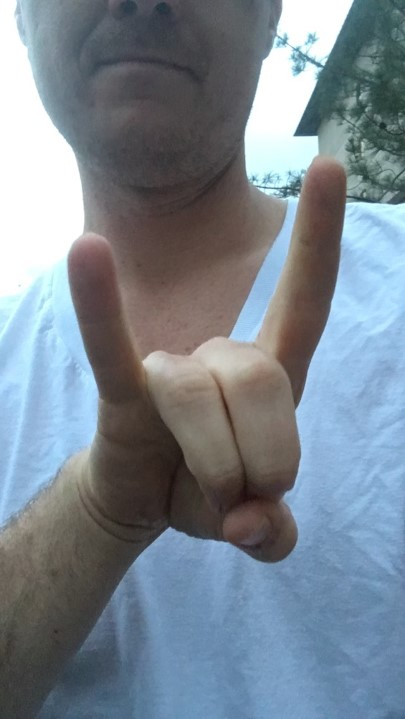hand: (66, 155, 346, 564)
